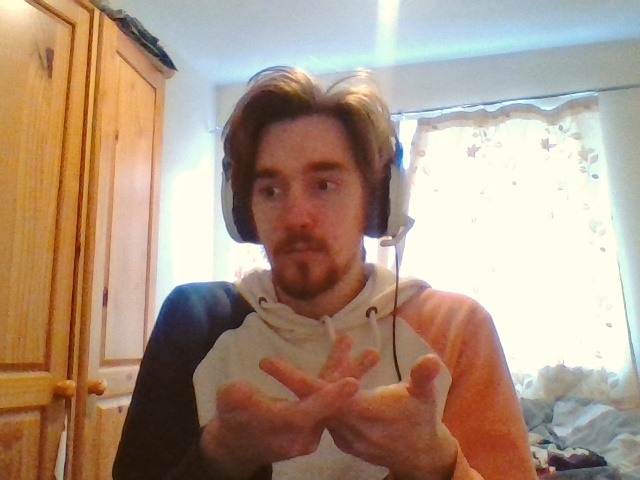how: (213, 336, 442, 462)
